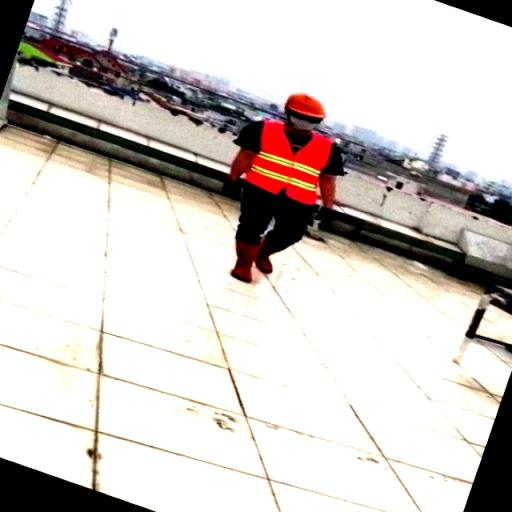Person: (223, 73, 347, 301)
boots: (220, 228, 266, 286), (255, 235, 282, 277)
gloves: (306, 199, 342, 236), (210, 169, 243, 202)
goggles: (277, 108, 327, 123)
helmet: (280, 82, 338, 124)
vest: (234, 126, 336, 204)
